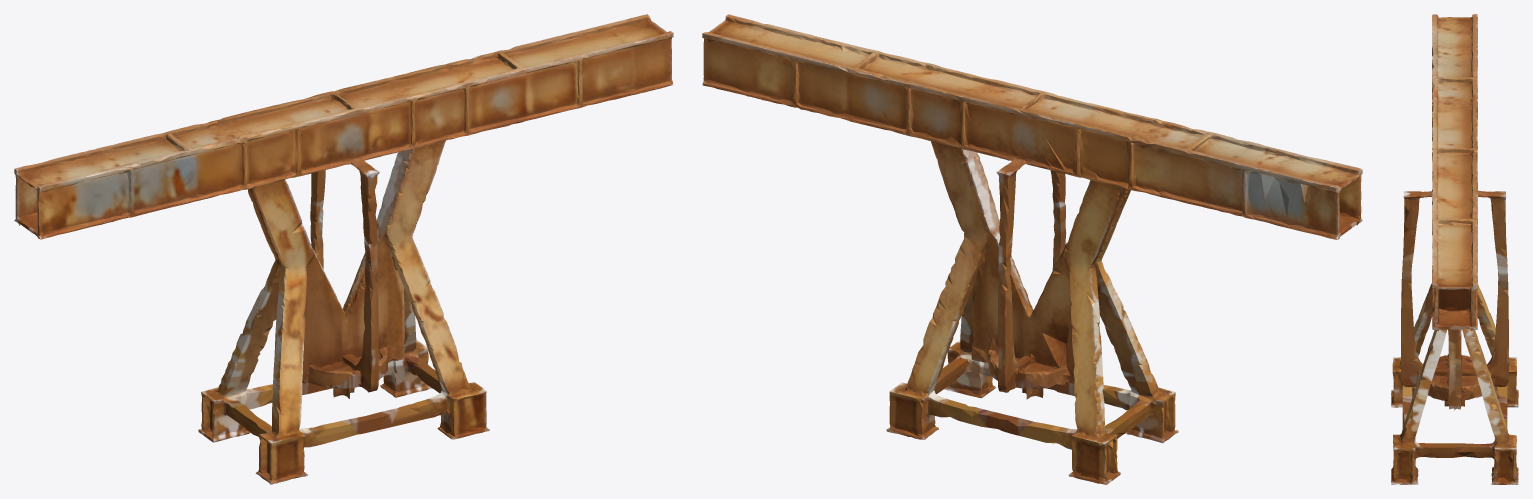
Rendered from golem_wing_R.glb.
3 renders of one model, left to right at view 1: azimuth 30°, elevation 25°; view 2: azimuth 150°, elevation 25°; view 3: azimuth 270°, elevation 25°, orthographic. The views are drawn at different scales.
Visible parts, largest first — view 1: golem_wing_R; view 2: golem_wing_R; view 3: golem_wing_R.
Part boxes in pixels (left/top/right/bottom): golem_wing_R: left=14, top=14, right=673, bottom=484; golem_wing_R: left=702, top=14, right=1362, bottom=484; golem_wing_R: left=1391, top=14, right=1518, bottom=484.
Bounding box in the file's own units: 1.89 × 0.9466 × 0.3768.
Materials: 1 (1 with a texture image).
